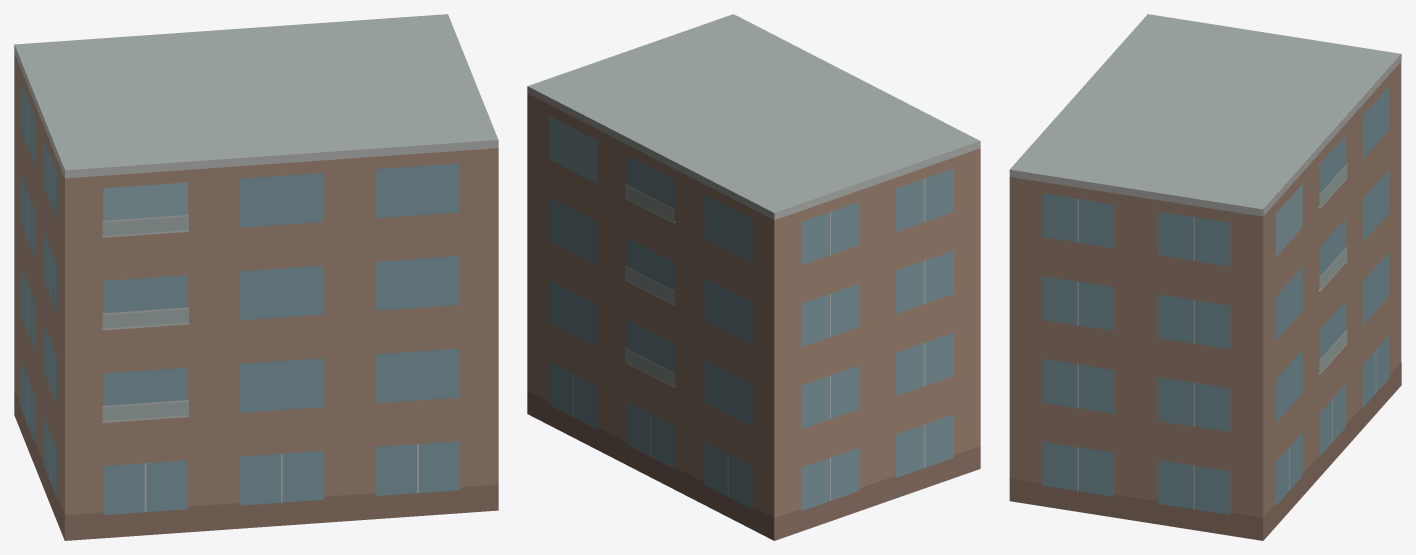
File: survey-upis-32552563.glb
3 renders of one model, left to right at view 1: azimuth 30°, elevation 25°; view 2: azimuth 150°, elevation 25°; view 3: azimuth 270°, elevation 25°, orthographic. The views are drawn at different scales.
Parts seen in each view (by area): view 1: survey-upis-32552563.tmp; view 2: survey-upis-32552563.tmp; view 3: survey-upis-32552563.tmp.
Boxes of the visible parts, bbox=[...] form: survey-upis-32552563.tmp: bbox=[14, 14, 498, 540]; survey-upis-32552563.tmp: bbox=[527, 14, 980, 540]; survey-upis-32552563.tmp: bbox=[1009, 14, 1401, 540].
Size of the model in its own units: 14.17 by 11.2 by 12.01.
